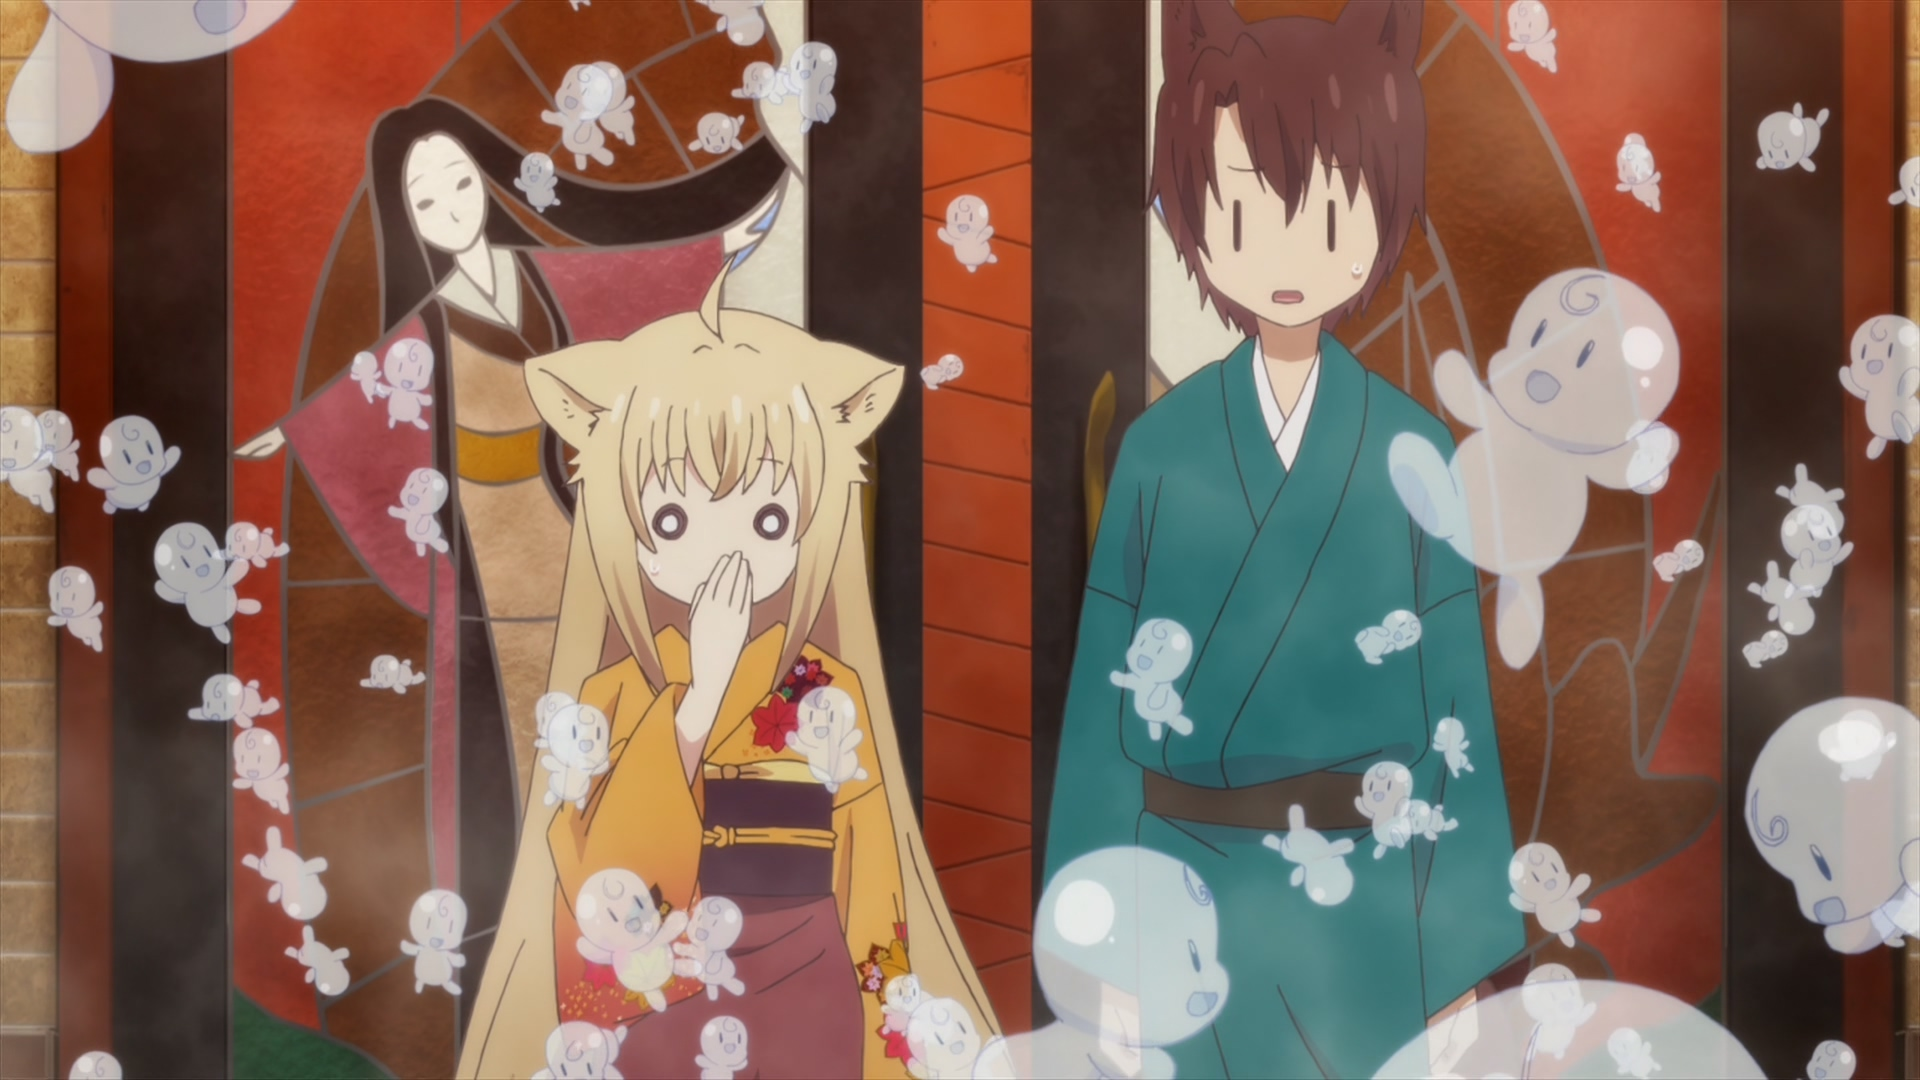枣: (1035, 1, 1526, 1080)
柚: (454, 255, 1014, 1080)
